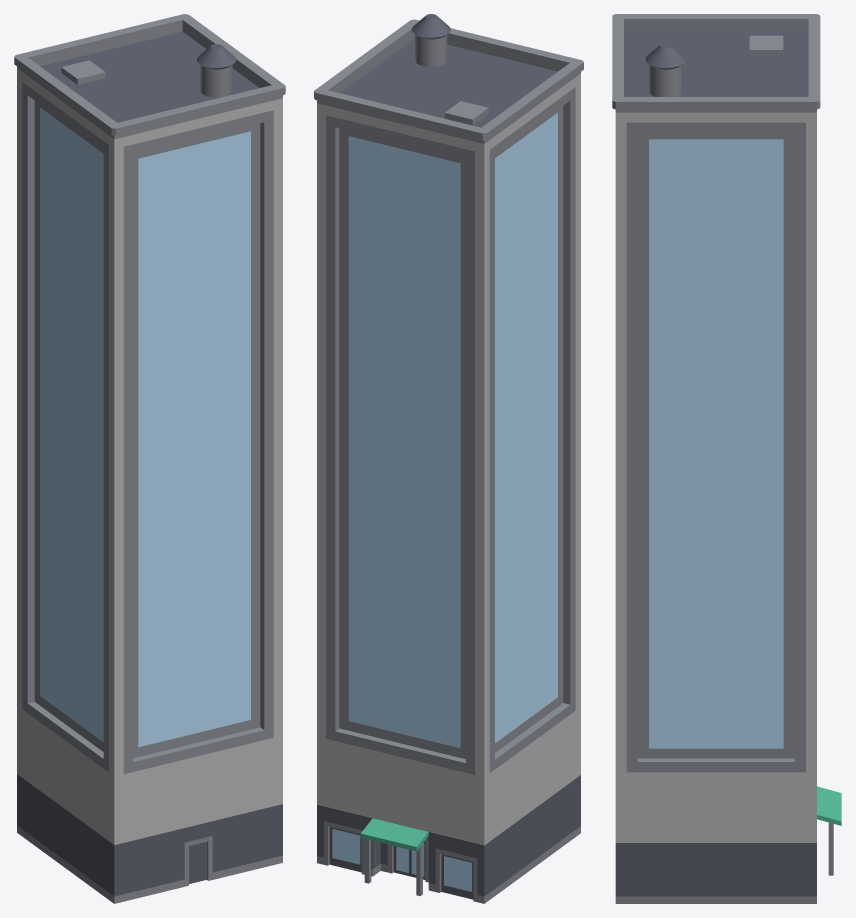
Rendered from home-mo.glb.
The picture shows the model from 3 angles, left to right: view 1: azimuth 30°, elevation 25°; view 2: azimuth 150°, elevation 25°; view 3: azimuth 270°, elevation 25°; orthographic projection. The views are drawn at different scales.
Visible parts, largest first — view 1: skyscraperD; view 2: skyscraperD; view 3: skyscraperD.
Part boxes in pixels (x1,y1,x2,y2): skyscraperD: (14,14,285,903); skyscraperD: (314,14,583,903); skyscraperD: (612,14,841,903).
Bounding box in the file's own units: 1.24 × 5.5 × 1.37.
